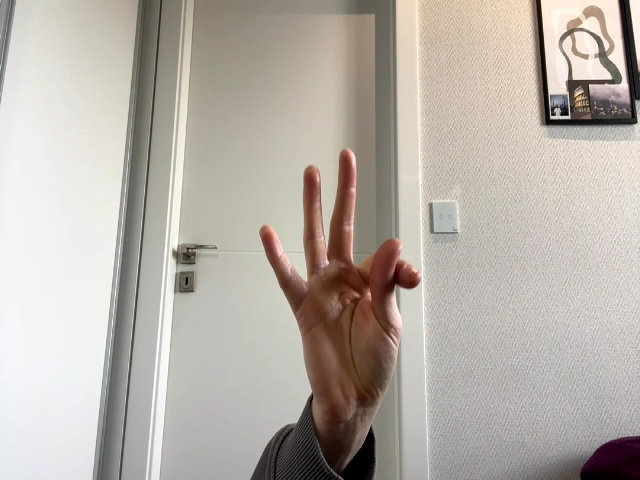T: (260, 149, 421, 413)
